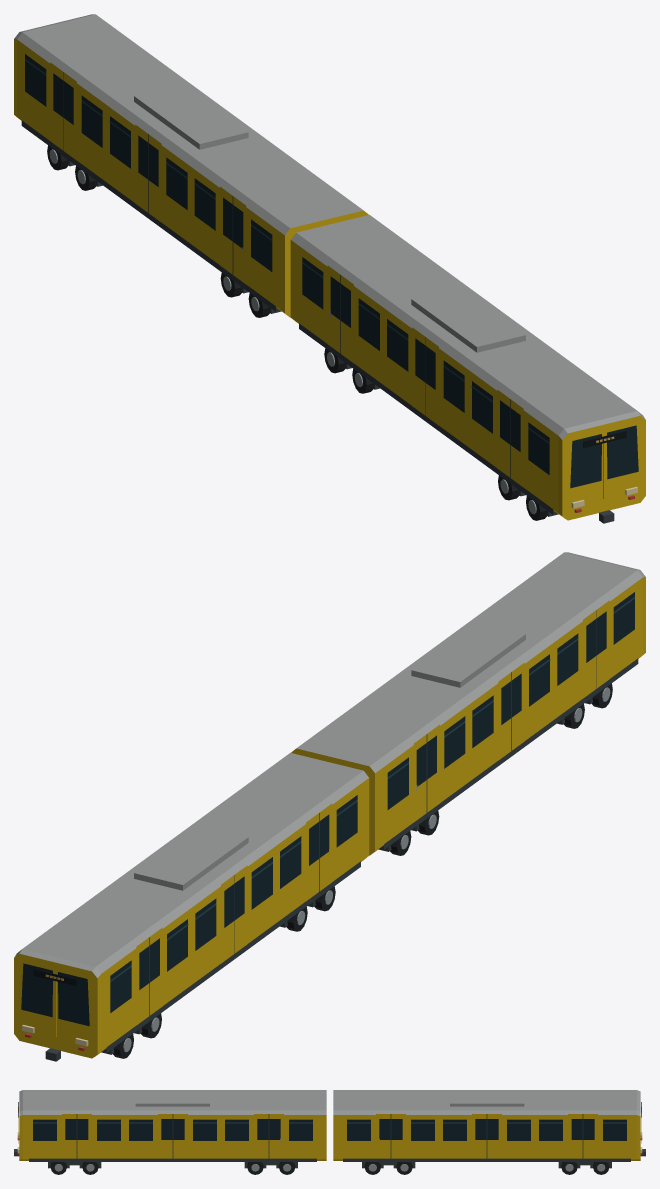
File: ubahn-a3.glb
3 renders of one model, top to bottom at view 1: azimuth 30°, elevation 25°; view 2: azimuth 150°, elevation 25°; view 3: azimuth 270°, elevation 25°, orthographic. The views are drawn at different scales.
Parts seen in each view (by area): view 1: ubahn-a3.segment-01.005, ubahn-a3.segment-02.005; view 2: ubahn-a3.segment-02.005, ubahn-a3.segment-01.005; view 3: ubahn-a3.segment-01.005, ubahn-a3.segment-02.005.
Boxes of the visible parts, <box> form: ubahn-a3.segment-01.005: <box>290,215,645,523</box>; ubahn-a3.segment-02.005: <box>14,14,368,317</box>; ubahn-a3.segment-02.005: <box>14,753,369,1061</box>; ubahn-a3.segment-01.005: <box>291,552,645,855</box>; ubahn-a3.segment-01.005: <box>14,1090,326,1174</box>; ubahn-a3.segment-02.005: <box>333,1090,645,1174</box>.
Size of the model in its own units: 2.35 by 3.13 by 26.34.
